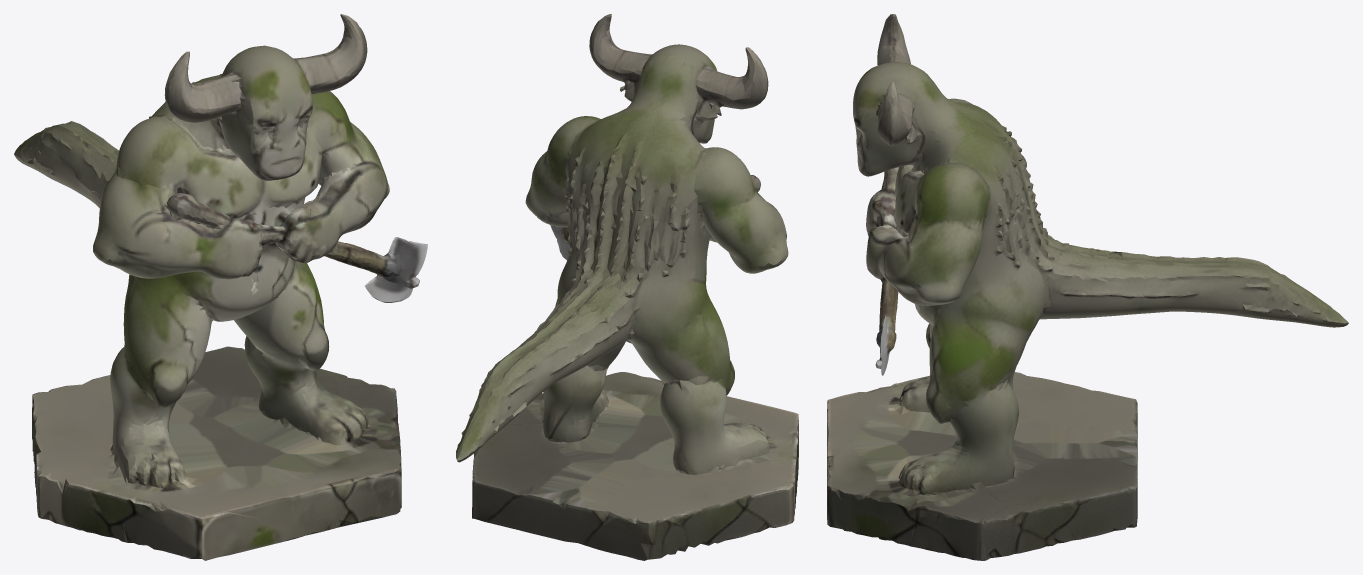
The model's file is rodin_Lab_Minotaur_raw.glb.
3 views of the same model, side by side, from view 1: azimuth 30°, elevation 25°; view 2: azimuth 150°, elevation 25°; view 3: azimuth 270°, elevation 25° (orthographic). The views are drawn at different scales.
Visible parts, largest first — view 1: model; view 2: model; view 3: model.
Part boxes in pixels (box(x1,y1,x2,y2)): model: box(14, 14, 427, 560); model: box(456, 14, 798, 560); model: box(827, 14, 1348, 560).
Size of the model in its own units: 1.14 by 1.46 by 1.58.
Materials: 1 (1 with a texture image).
